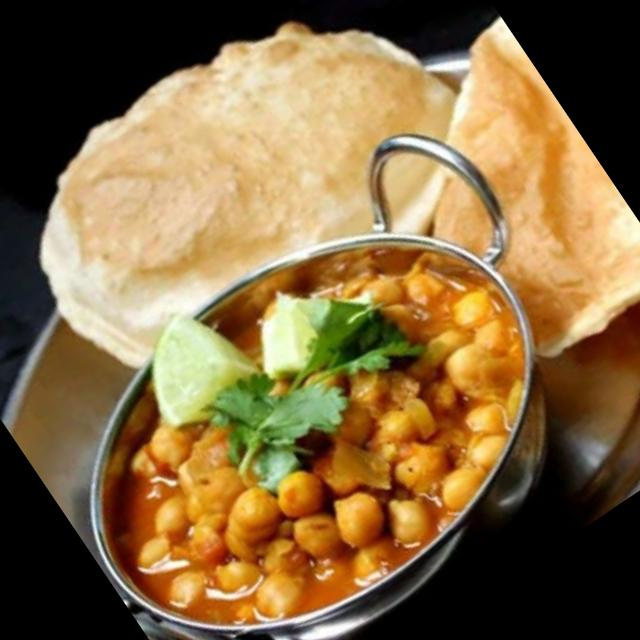Bhatura: (0, 0, 514, 432), (349, 10, 640, 379)
Chole: (86, 215, 575, 640)
